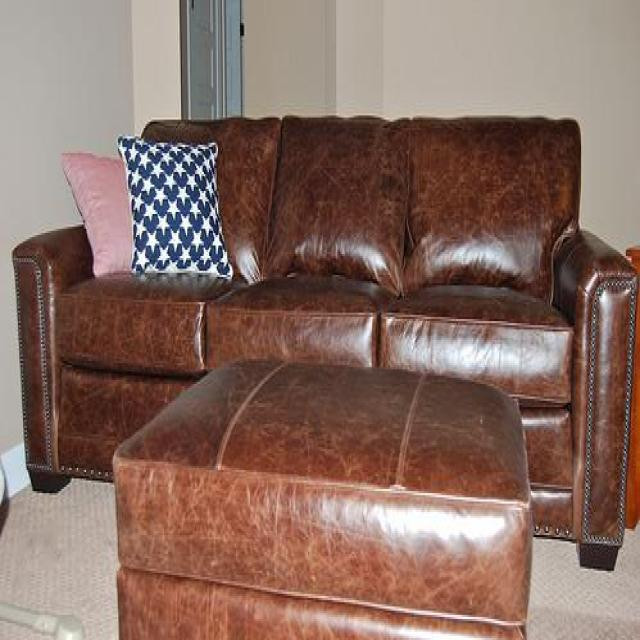sofa: (9, 109, 635, 577)
